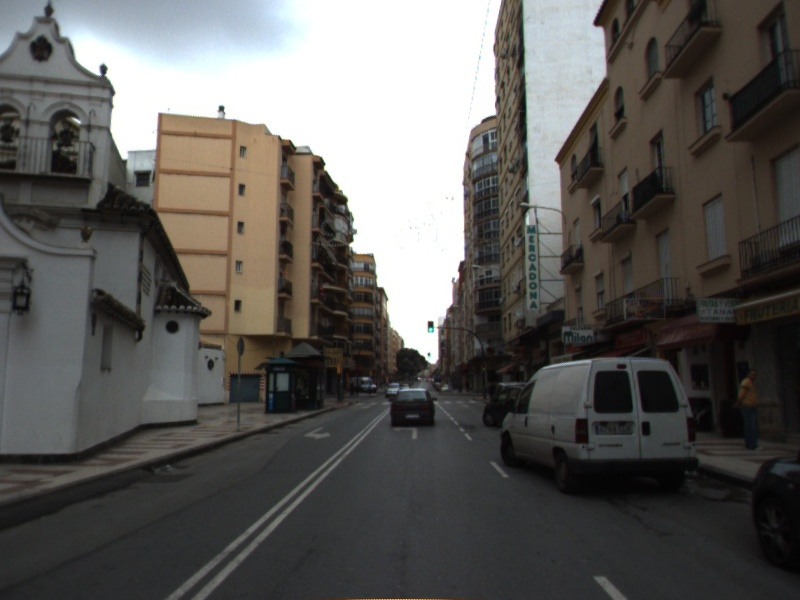LEFT: (392, 425, 419, 441)
